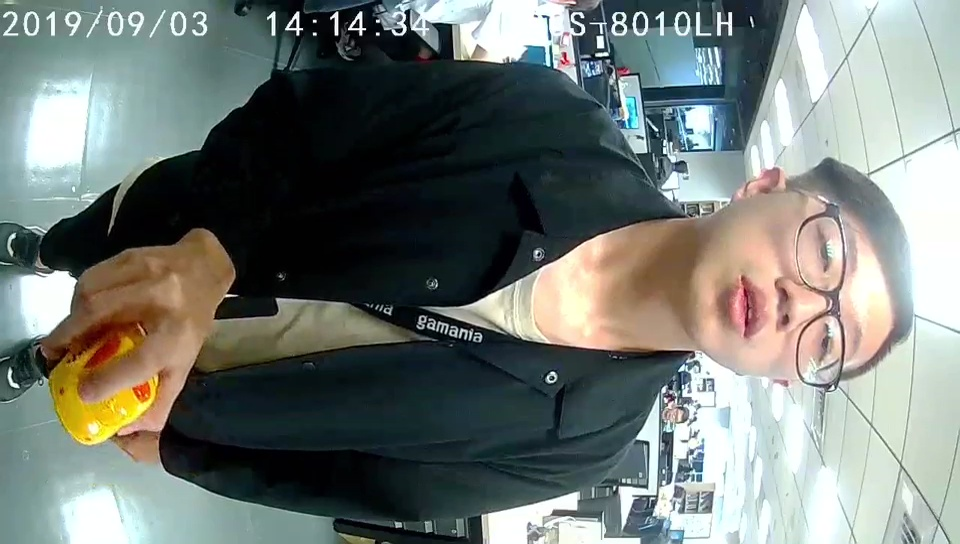car: (52, 331, 153, 445)
